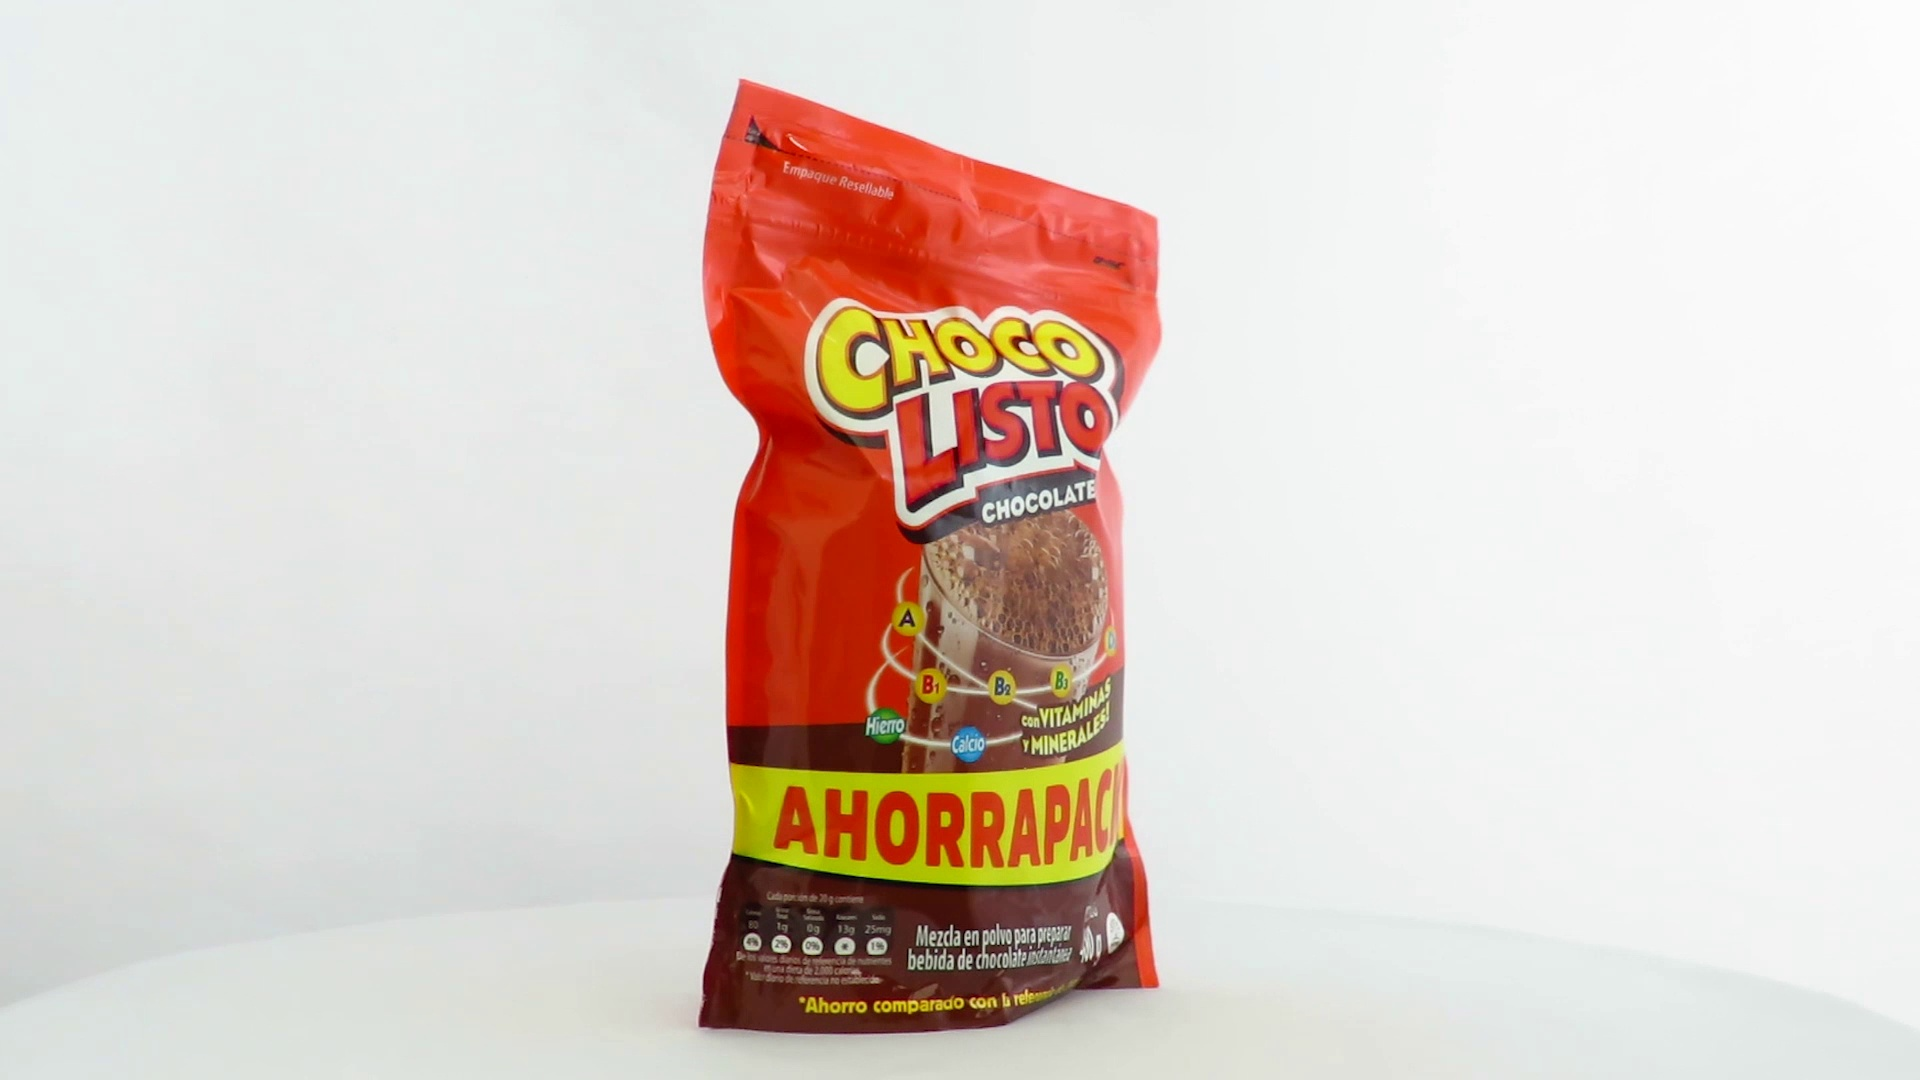COL0170103DYP40000: (694, 73, 1168, 1040)
